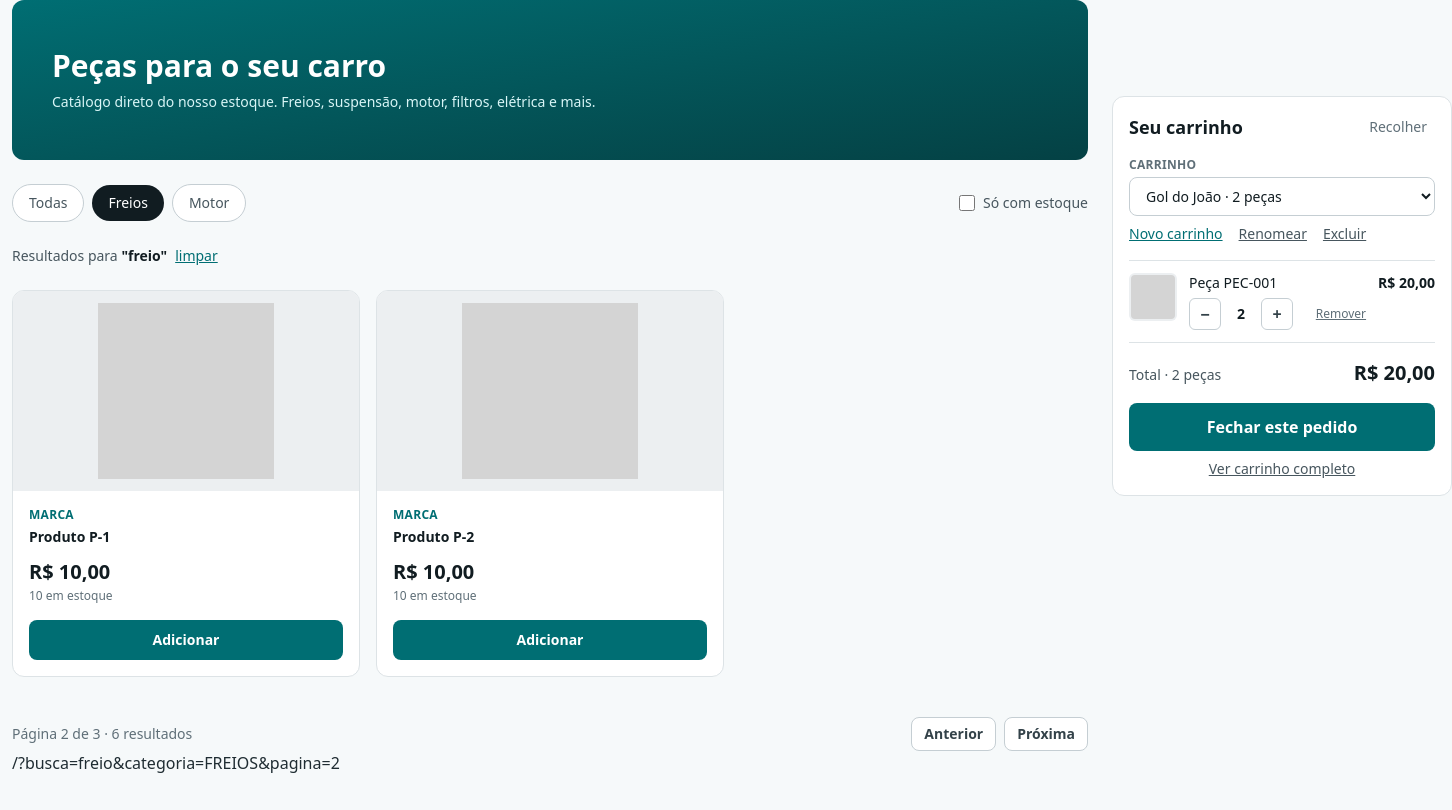
Scenario: vitrine com o carrinho ao lado › editar o carrinho NAO mexe na URL nem recarrega o catalogo (nao perde a posicao)
Expected: the link "Produto P-1" is shown, top-left (29, 527), bottom-right (110, 546)
Step 1. Click the button named "Aumentar quantidade de Peça PEC-001" → (1277, 314), box top-left (1261, 298), bottom-right (1293, 330)
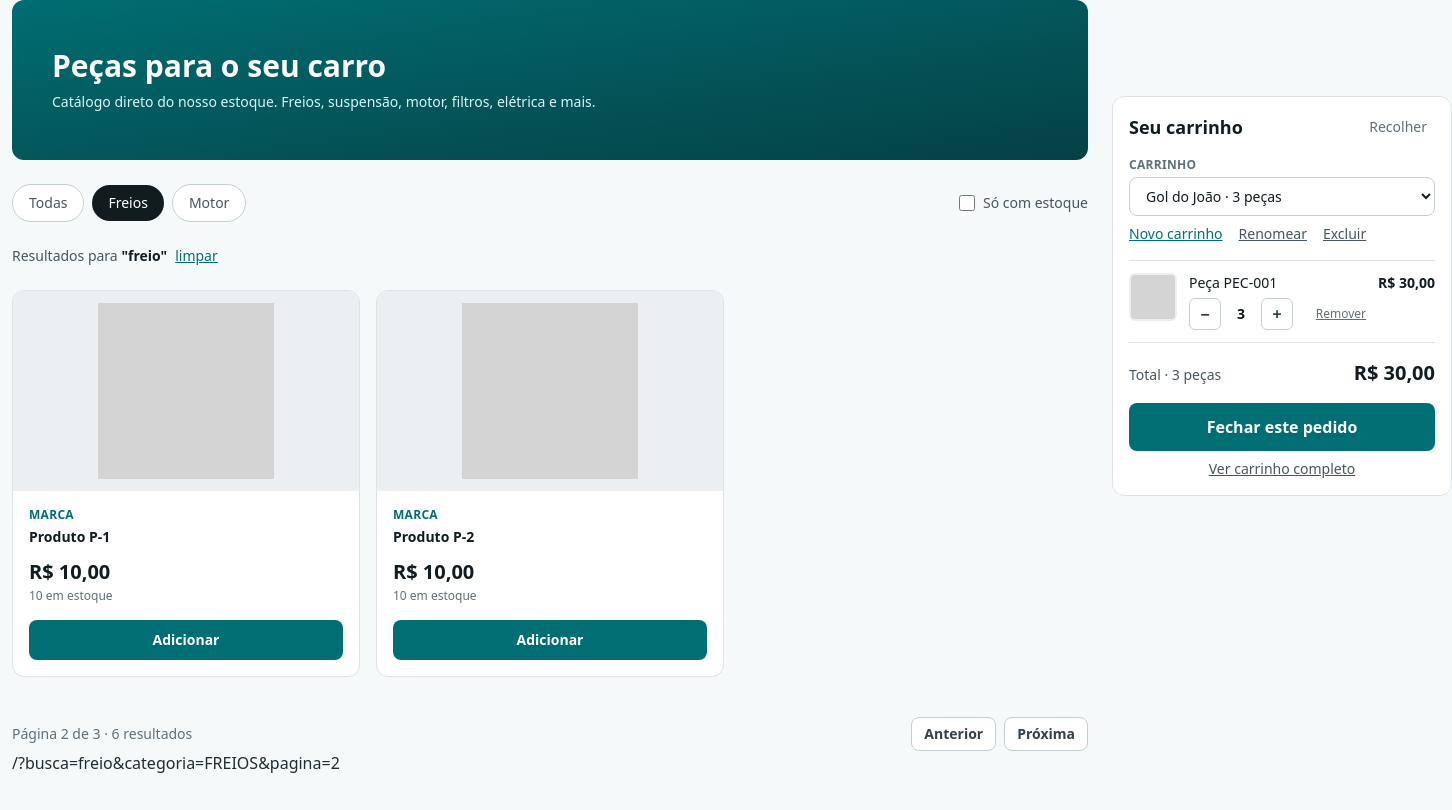
Expected: the text with test id "url" reads "/?busca=freio&categoria=FREIOS&pagina=2", top-left (12, 752), bottom-right (340, 774)
Expected: the text named "Quantidade: 3" is shown, top-left (1237, 304), bottom-right (1245, 323)
